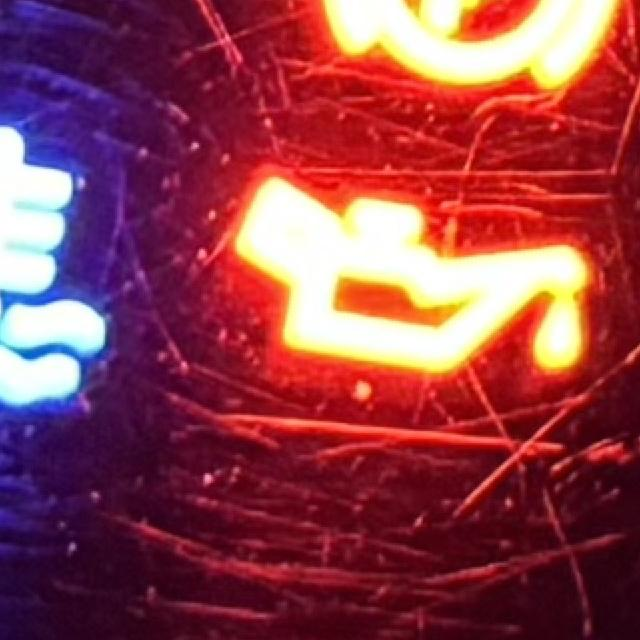High Engine Temperature: (1, 108, 129, 422)
Low Oil Pressure Issue: (233, 170, 596, 385)
